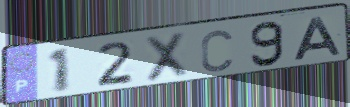1: (45, 45, 72, 96)
2: (96, 39, 137, 90)
9: (249, 20, 286, 68)
A: (292, 15, 345, 63)
C: (198, 28, 234, 75)
X: (143, 29, 190, 85)
